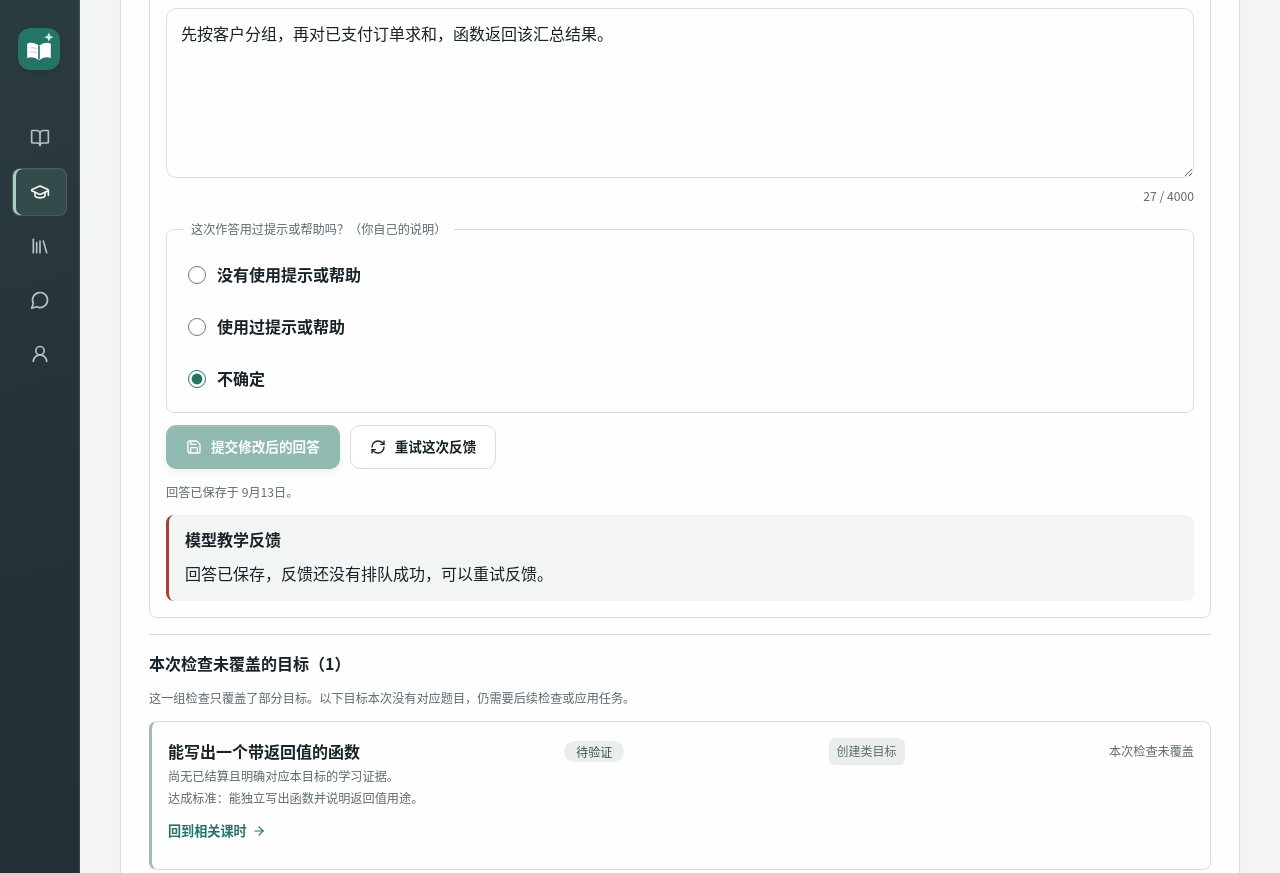
Scenario: course text application task › keeps the saved answer after an explicit feedback retry fails
(page scrolled)
Step 1. Click the button "重试这次反馈" → [423, 447], box [350,425,496,469]
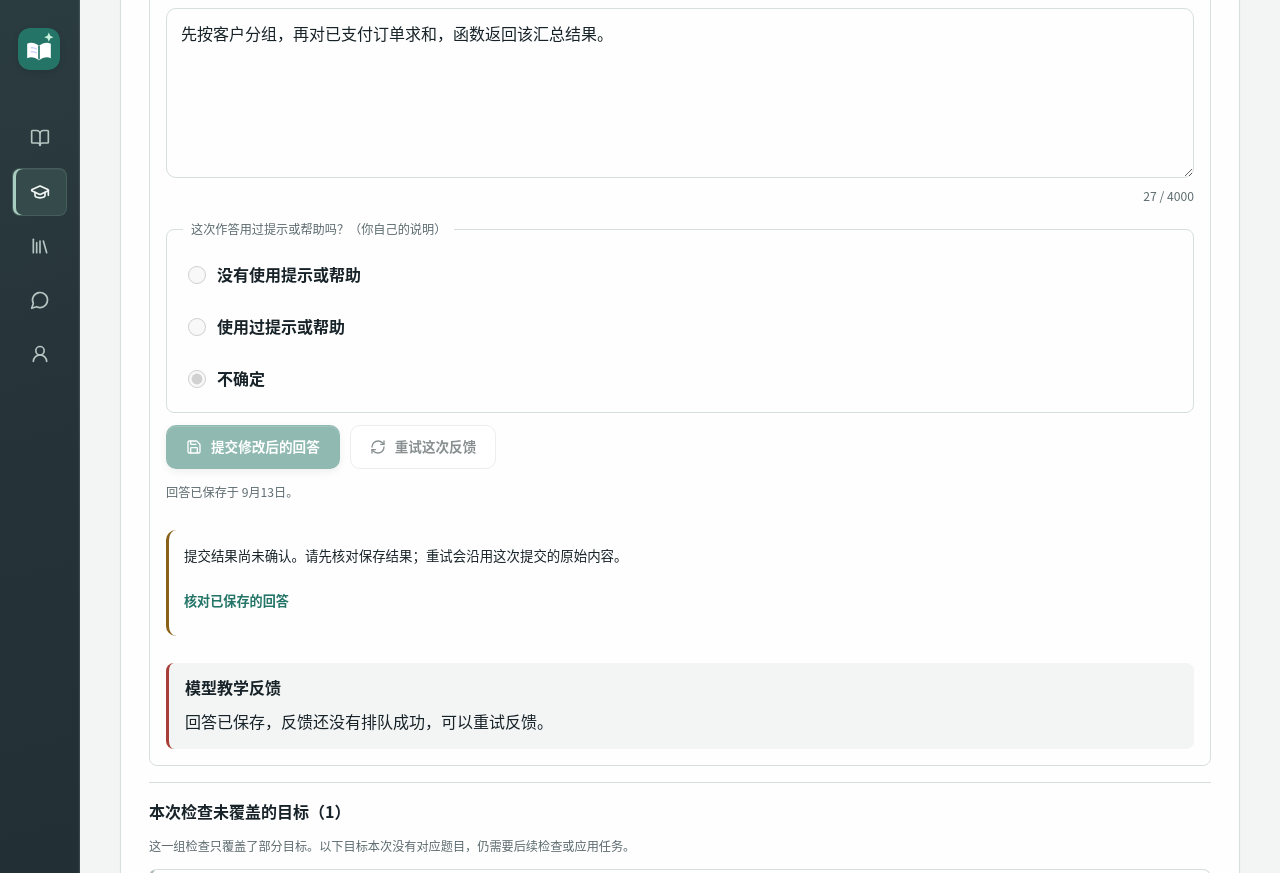
expect the text box labelled "你的回答" holds "先按客户分组，再对已支付订单求和，函数返回该汇总结果。": met, box [166,8,1194,178]
expect the text "提交结果尚未确认。请先核对保存结果；重试会沿用这次提交的原始内容。" is shown: met, box [184,545,628,565]
